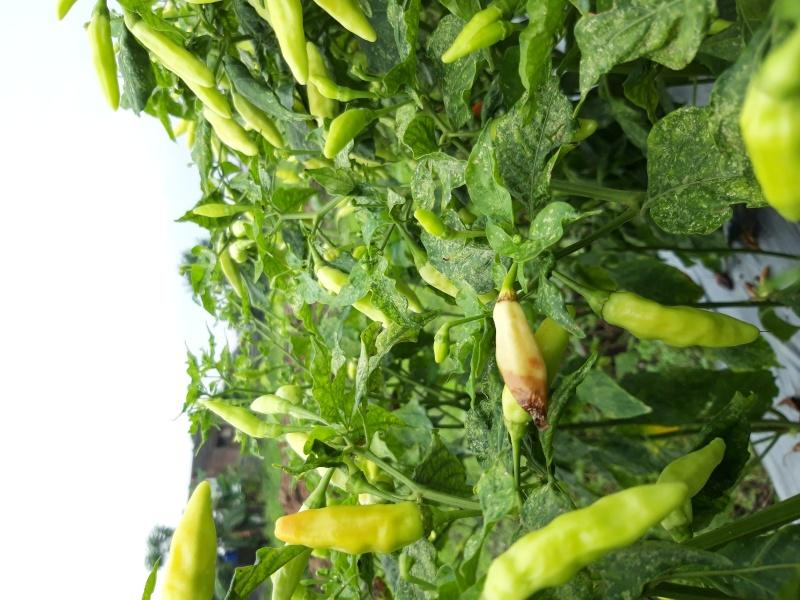antraknosa: (491, 300, 547, 426)
cabai_normal: (487, 481, 689, 598), (602, 291, 758, 344), (277, 500, 425, 553), (156, 477, 217, 599), (655, 438, 724, 529), (135, 22, 214, 88), (321, 264, 399, 327), (271, 1, 308, 83), (202, 105, 260, 156), (88, 16, 119, 111), (445, 7, 497, 62), (203, 401, 268, 441), (236, 96, 284, 147), (322, 108, 371, 157), (318, 1, 374, 41), (418, 262, 459, 297), (467, 23, 505, 50), (310, 77, 341, 99), (193, 203, 226, 219), (250, 396, 283, 411), (433, 337, 451, 364)
